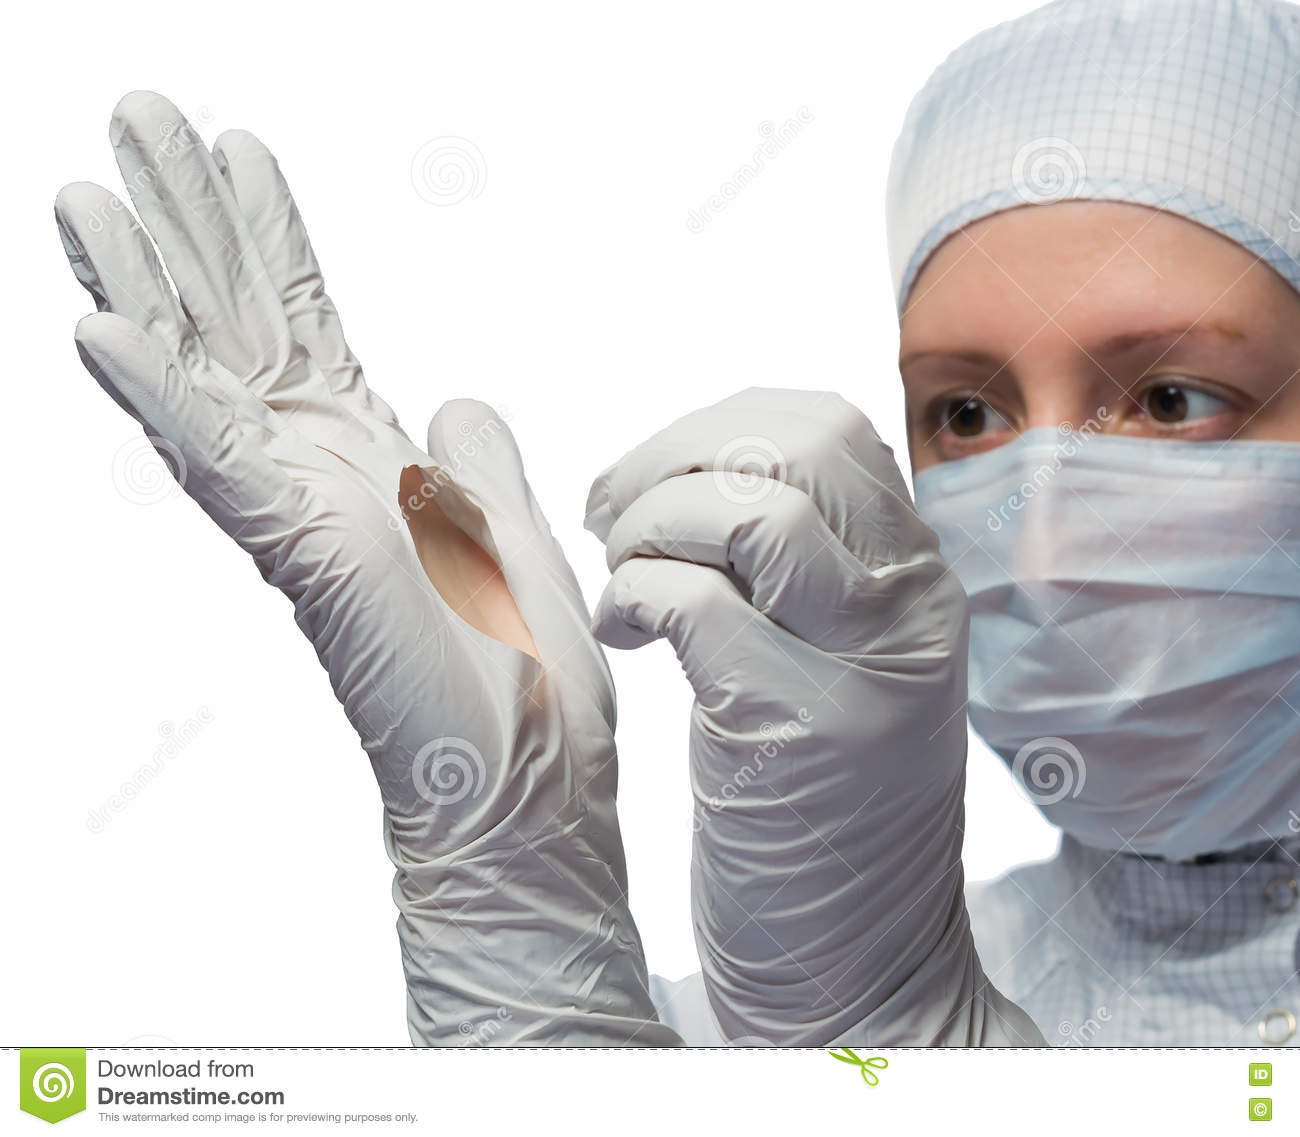defected: (27, 44, 677, 973)
